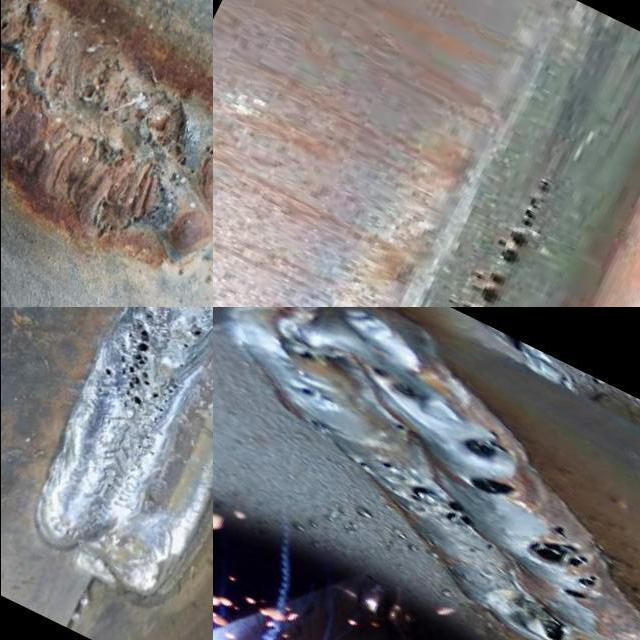defect: (524, 520, 604, 607), (99, 316, 164, 414), (493, 171, 554, 270), (94, 176, 172, 231), (138, 96, 193, 169), (508, 594, 571, 640), (0, 47, 32, 119), (464, 471, 528, 501), (459, 428, 514, 461), (96, 139, 140, 177), (80, 67, 114, 105), (287, 338, 330, 366), (440, 497, 478, 528), (403, 485, 437, 505), (389, 380, 421, 401), (186, 320, 206, 346), (295, 384, 319, 400), (308, 418, 331, 432), (370, 364, 389, 377), (202, 136, 212, 160), (0, 16, 12, 34), (20, 0, 32, 18), (467, 544, 484, 555), (484, 540, 498, 552), (380, 461, 395, 470), (393, 421, 406, 430), (358, 461, 367, 467)
